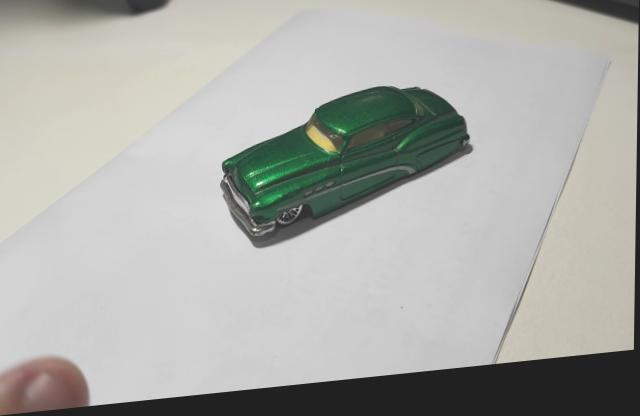06_MASERATI: (221, 95, 474, 256)
